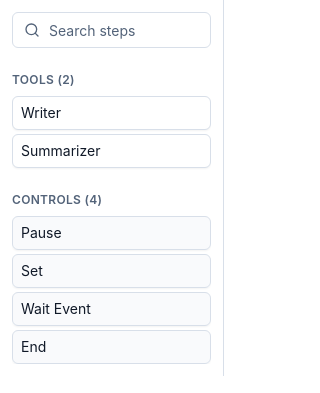
Test: BuilderPalette search › filters control steps too
The width and height of the screenshot is (320, 393).
Type "pause" into the search field labelled "Search steps" at [112, 30], box x1=12 y1=12 x2=211 y2=48
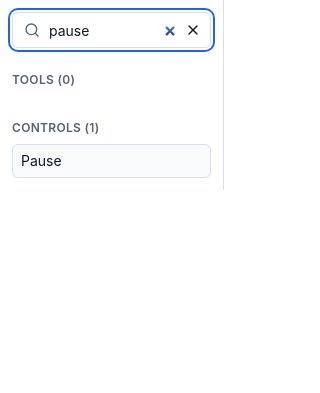
Expected: the text "Pause" is shown, x1=21 y1=152 x2=62 y2=169
Result: the button "Writer" is gone
